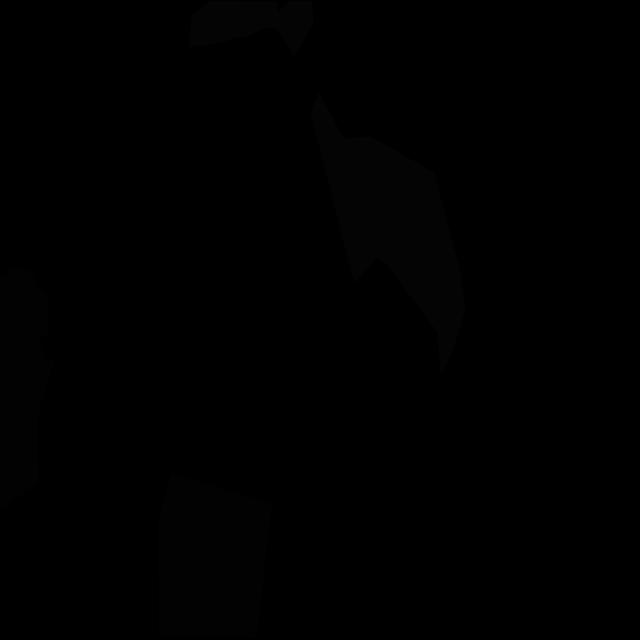cardboard: (158, 473, 272, 638), (0, 268, 55, 508)
soft_plastic: (310, 92, 465, 377), (188, 0, 314, 56)
